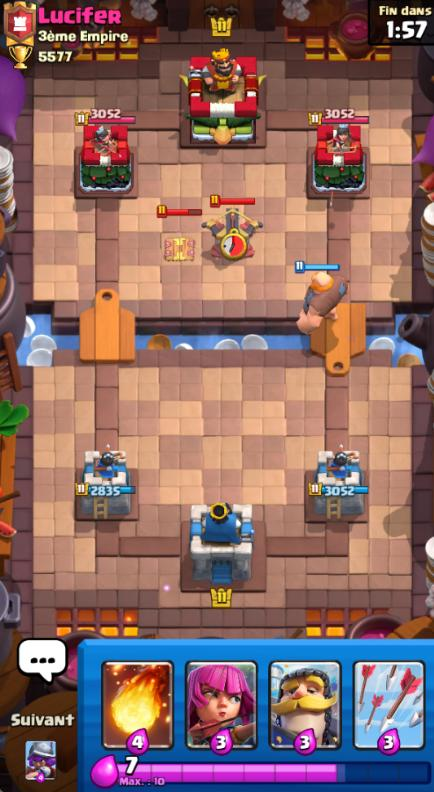geant: (299, 273, 348, 336)
